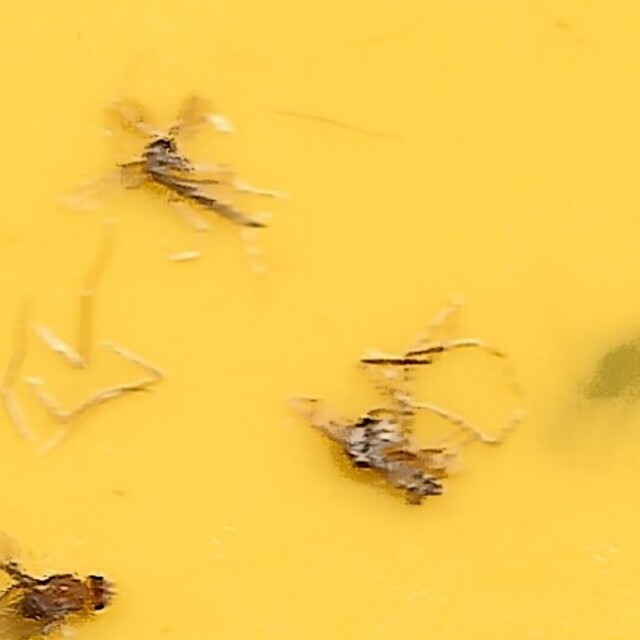Nematocera: (331, 338, 509, 514), (131, 126, 271, 244)
